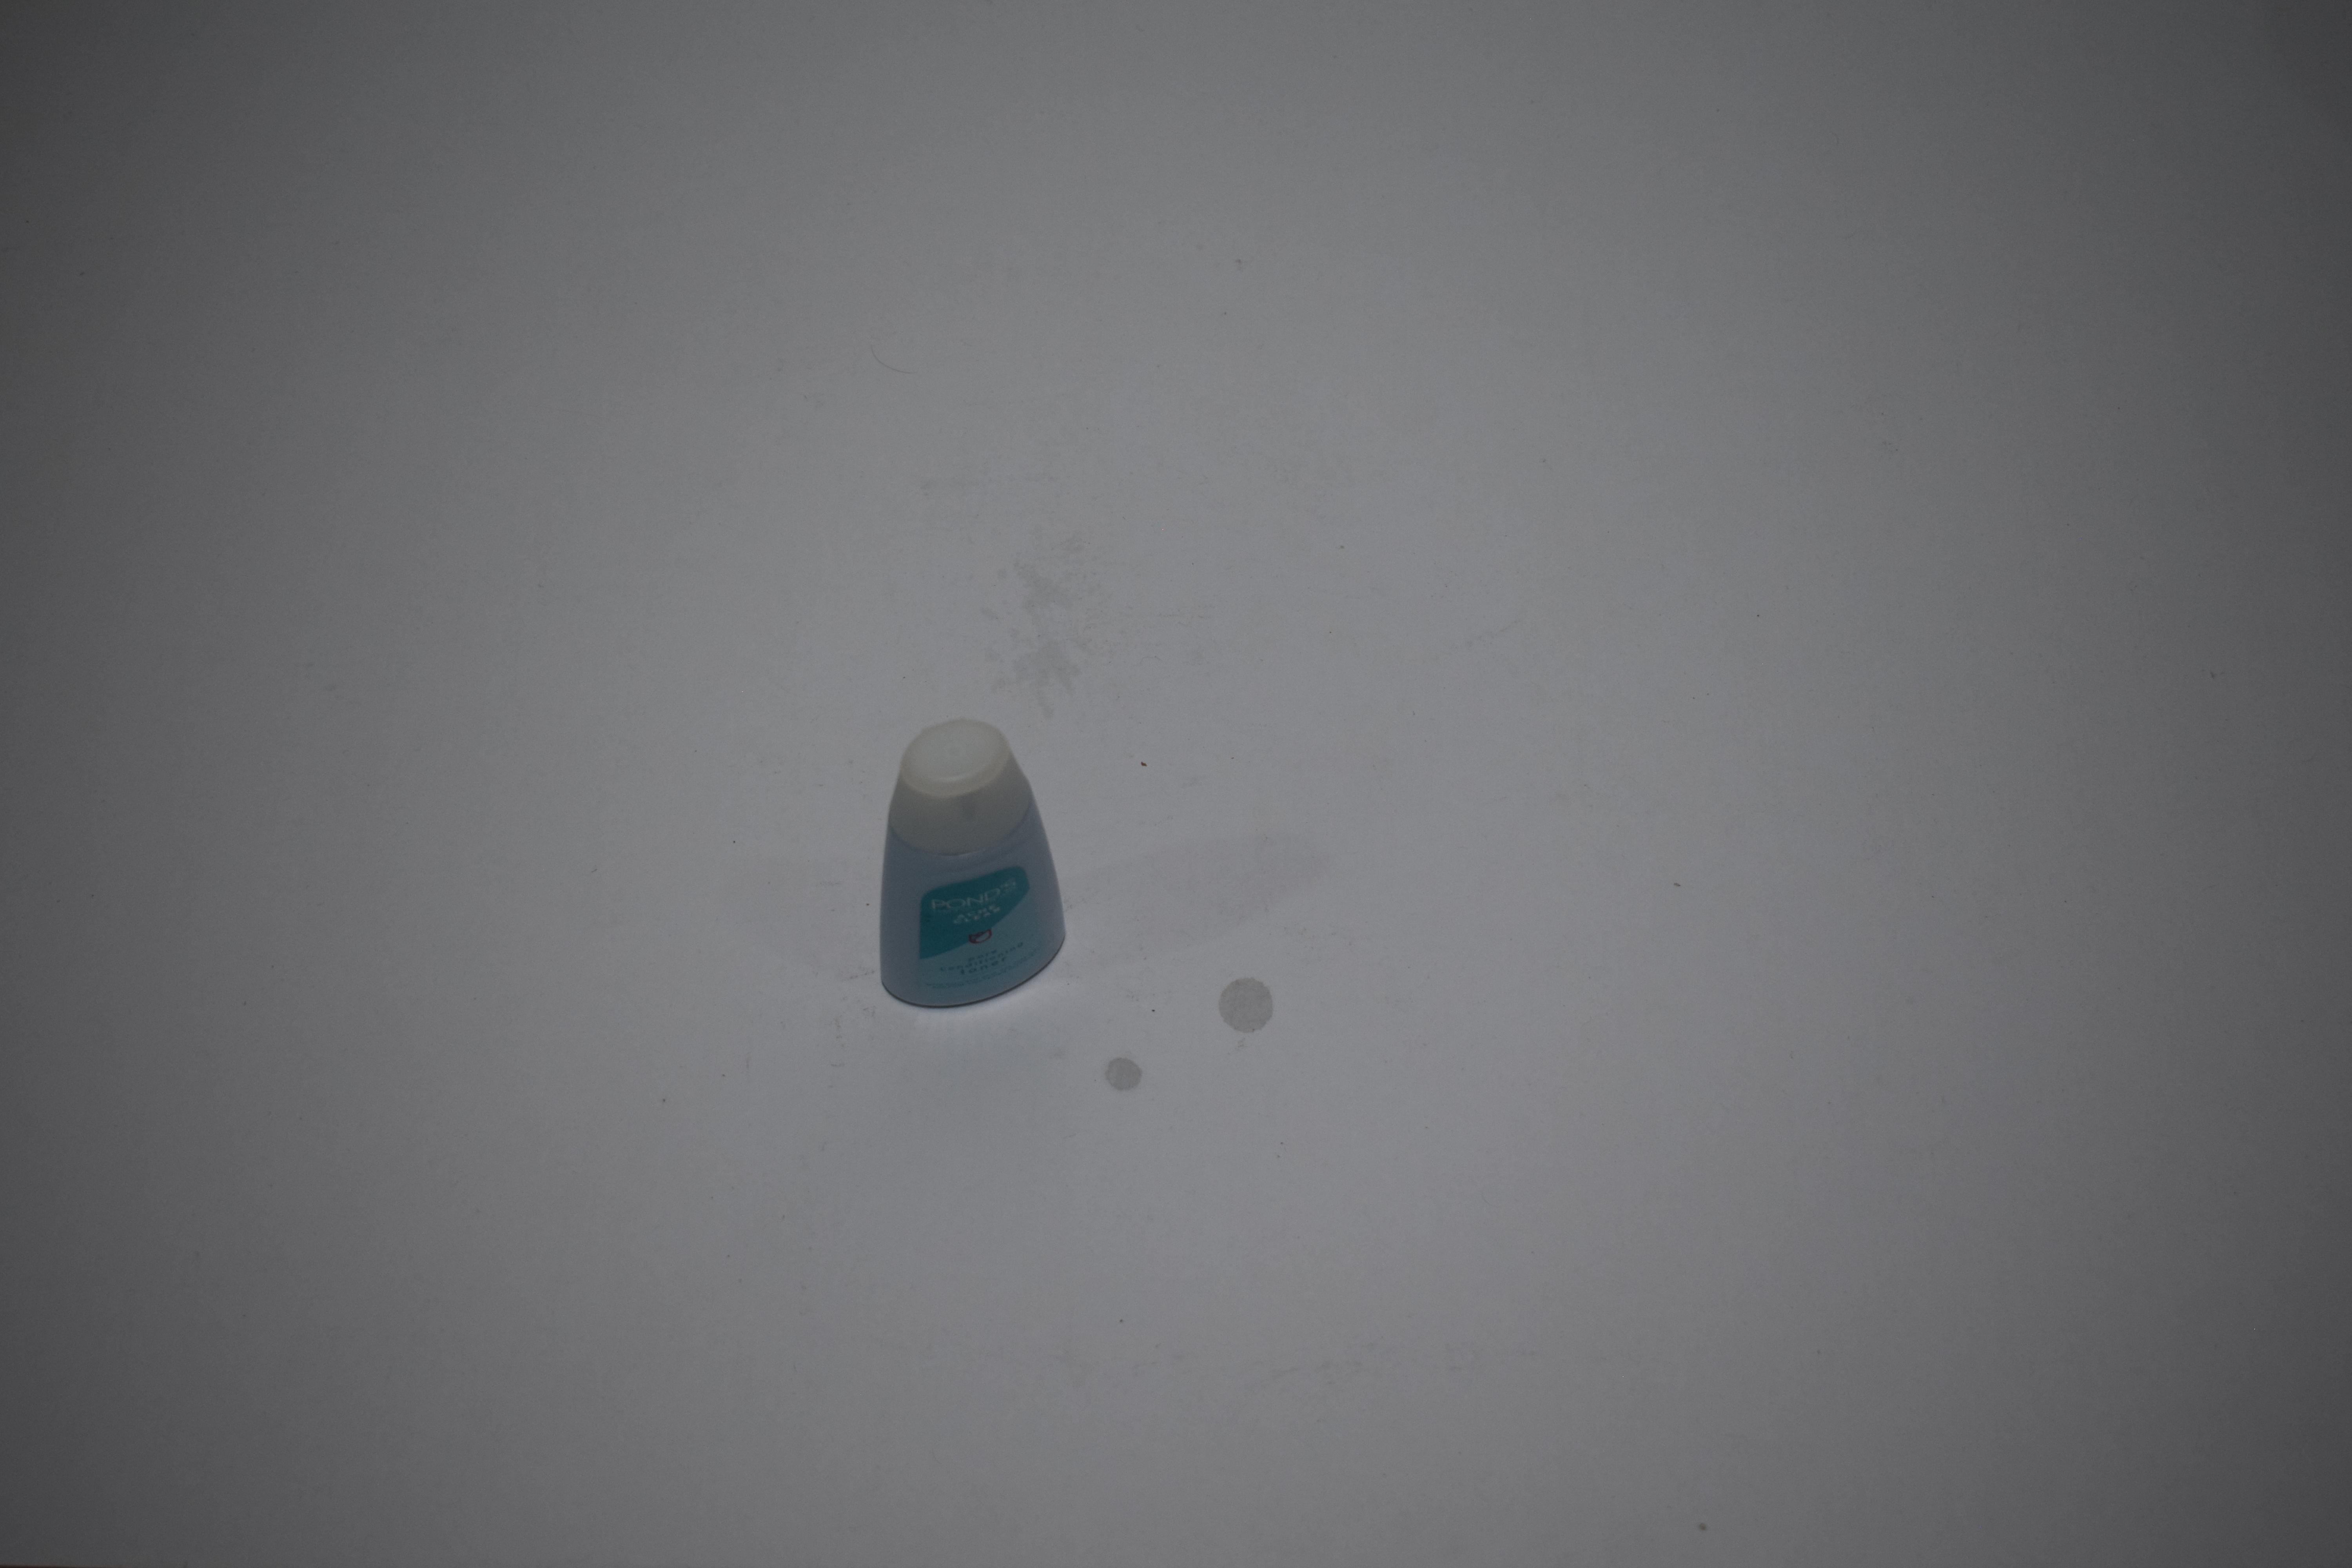bottle: (870, 0, 1074, 157)
